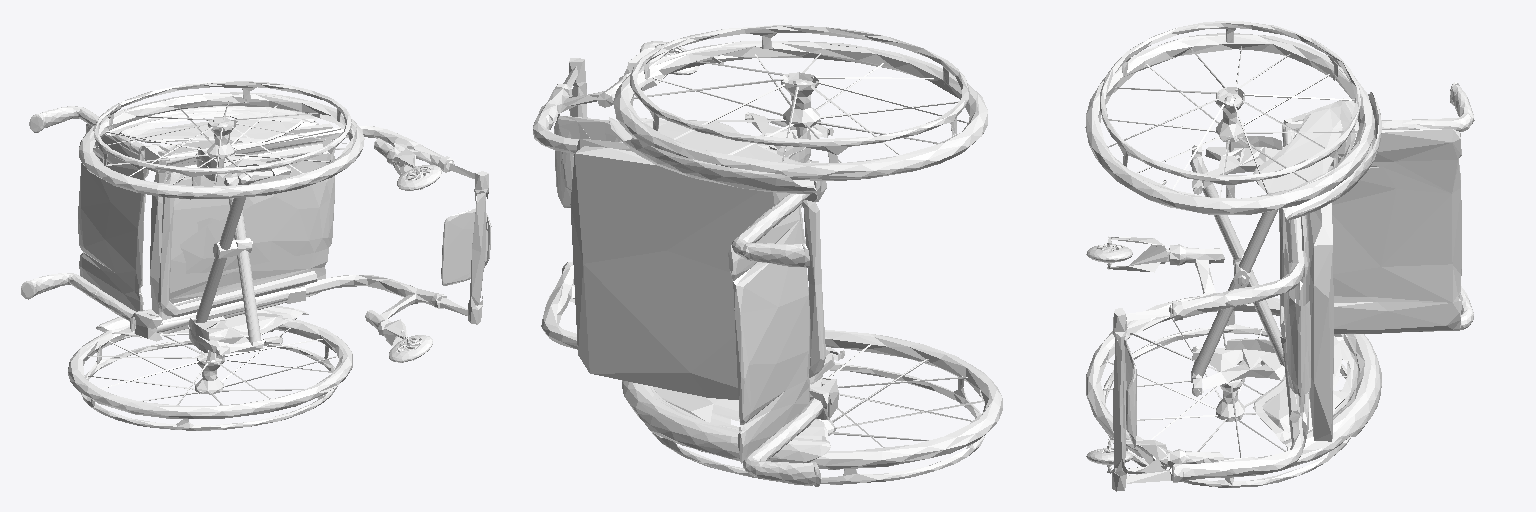
The robot description file, URDF, robot "wheelchair":
<?xml version="1.0" ?>
<robot name="wheelchair">

  <material name="white">
    <color rgba="1 1 1 1"/>
  </material>

  <link name="root">
    <inertial>
      <mass value="0"/>
      <origin rpy="0 0 0" xyz="0 0 0"/>
      <inertia ixx="0.01" ixy="0.0" ixz="0.0" iyy="0.01" iyz="0.0" izz="0.01"/>
    </inertial>
    <visual>
      <origin rpy="0 0 0" xyz="0 0 0"/>
      <geometry>
        <mesh filename="wheelchair_new_reduced_compressed.obj" scale="0.36 0.28 0.36"/>
      </geometry>
      <material name="white"/>
    </visual>
    <collision>
      <origin rpy="0 0 0" xyz="0 0 0"/>
      <geometry>
        <mesh filename="wheelchair_new_compressed_vhacd.obj" scale="0.36 0.28 0.36"/>
      </geometry>
    </collision>
  </link>
</robot>

--- What the picture shows (computed from the rendered views, not written in the file) ---
3 views of the same robot in one strip: view 1: azimuth 30°, elevation 25°; view 2: azimuth 150°, elevation 25°; view 3: azimuth 270°, elevation 25° (orthographic).
Robot: wheelchair — 1 links, 0 joints (none); root link root; default pose: every joint at zero.
Visible links, largest first — view 1: root; view 2: root; view 3: root.
Boxes of the visible links, x1=… form: root: x1=21, y1=81, x2=491, y2=430; root: x1=533, y1=25, x2=1002, y2=486; root: x1=1085, y1=21, x2=1474, y2=491.
Size in the robot's own frame: 1.08 by 0.7958 by 0.7559 metres.
1 mesh visuals loaded from 1 distinct referenced files (1 OBJ).